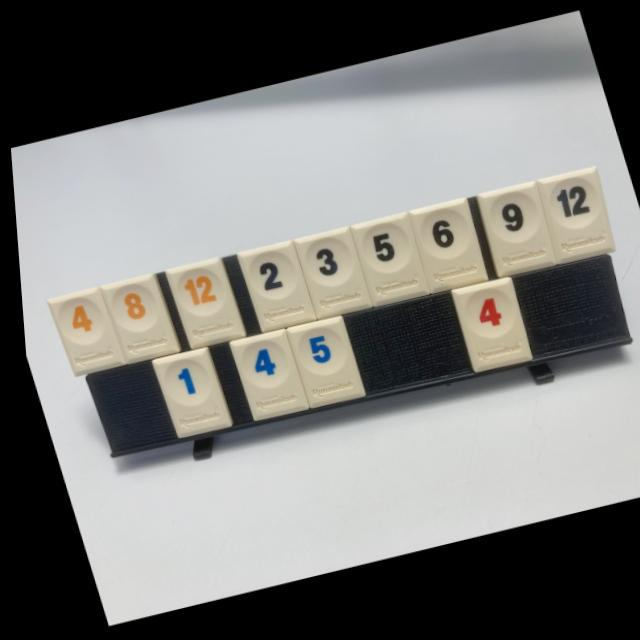black_12: (535, 167, 611, 264)
black_2: (233, 241, 310, 332)
black_3: (291, 229, 366, 319)
black_5: (347, 213, 423, 306)
black_6: (405, 198, 483, 292)
black_9: (473, 183, 551, 276)
blue_1: (147, 347, 226, 437)
blue_4: (225, 330, 301, 420)
blue_5: (281, 317, 358, 407)
orange_12: (161, 257, 239, 348)
orange_4: (43, 288, 119, 375)
orange_8: (96, 273, 174, 362)
red_4: (447, 278, 526, 372)
